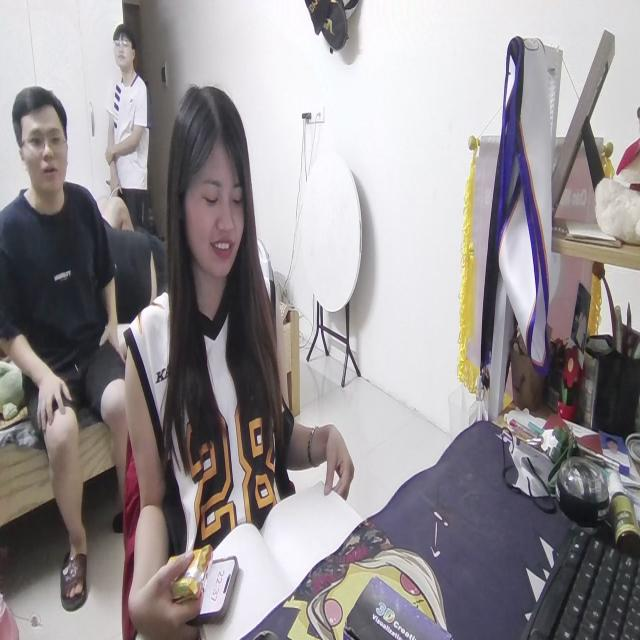book: (196, 476, 368, 631)
extra_person: (0, 83, 137, 608), (106, 25, 151, 242)
phone: (197, 550, 239, 620)
student: (121, 106, 356, 640)
